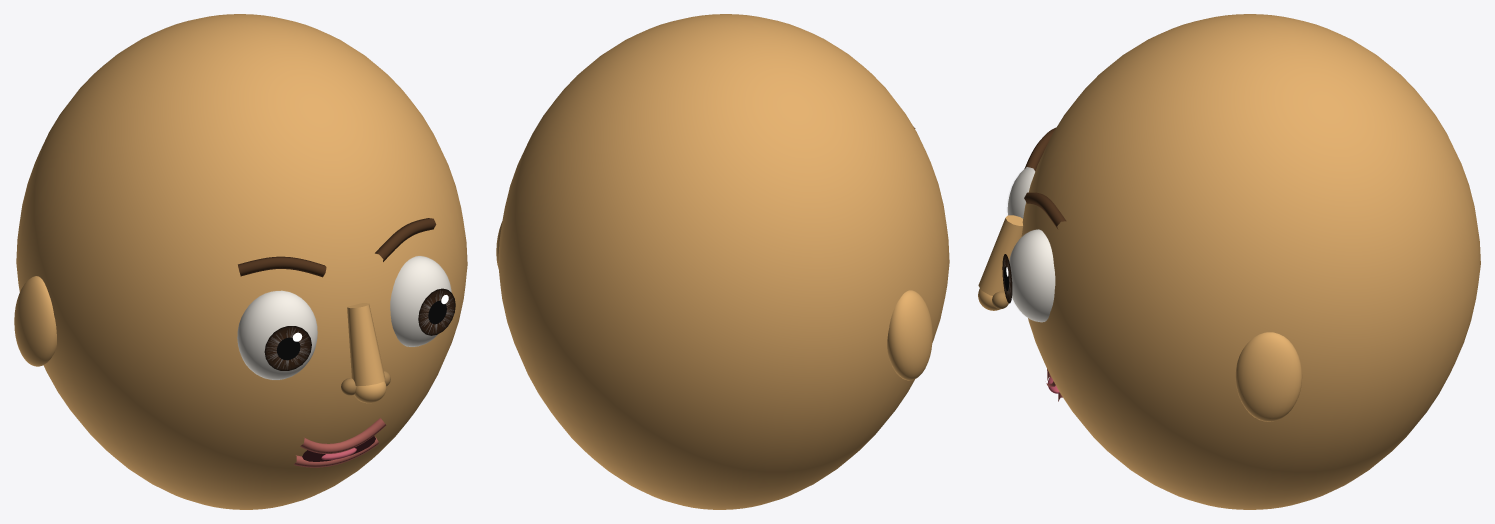
File: 09-langue.glb
3 views of the same model, side by side, from view 1: azimuth 30°, elevation 25°; view 2: azimuth 150°, elevation 25°; view 3: azimuth 270°, elevation 25° (orthographic).
Bounding box in the file's own units: 0.3087 × 0.321 × 0.3166.
Materials: 11 (1 with a texture image).
